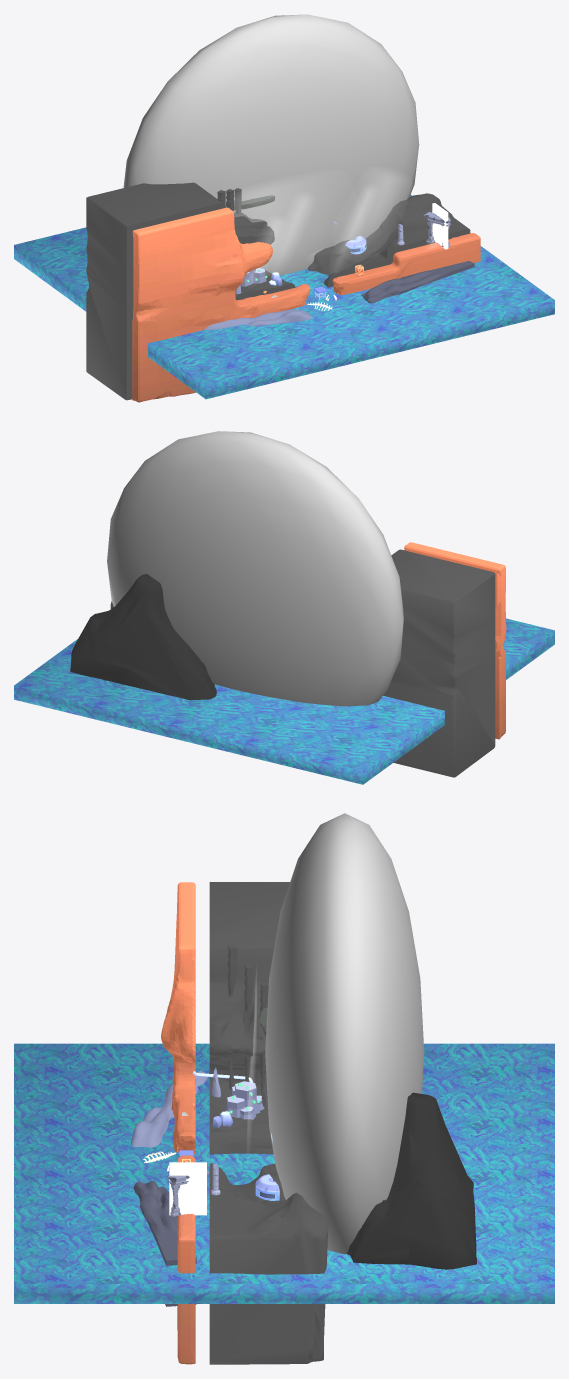
Rendered from level_05.glb.
3 views of the same model, one above another, from view 1: azimuth 30°, elevation 25°; view 2: azimuth 150°, elevation 25°; view 3: azimuth 270°, elevation 25° (orthographic). The views are drawn at different scales.
Parts seen in each view (by area): view 1: glow.004, danger.001, ground.001, Ground.009, light-ray.002, Cube.020, Cube.019, goal_sensor.005; view 2: glow.004, danger.001, Ground.009, Ground.008, ground.001; view 3: danger.001, glow.004, Ground.009, Ground.008, ground.001, Cube.020, goal_sensor.005, Pole.003, Cube.019, rock_crystalsLargeA.
Part boxes in pixels (left/top/right/bottom): glow.004: left=123, top=14, right=419, bottom=275; danger.001: left=14, top=195, right=554, bottom=399; ground.001: left=132, top=207, right=480, bottom=402; Ground.009: left=86, top=182, right=470, bottom=400; light-ray.002: left=234, top=173, right=440, bottom=276; Cube.020: left=361, top=261, right=474, bottom=303; Cube.019: left=204, top=309, right=312, bottom=329; goal_sensor.005: left=432, top=203, right=448, bottom=249; glow.004: left=107, top=431, right=403, bottom=706; danger.001: left=14, top=618, right=554, bottom=784; Ground.009: left=110, top=549, right=495, bottom=777; Ground.008: left=70, top=574, right=216, bottom=700; ground.001: left=404, top=542, right=506, bottom=739; danger.001: left=14, top=1043, right=554, bottom=1303; glow.004: left=265, top=813, right=424, bottom=1254; Ground.009: left=209, top=882, right=328, bottom=1364; Ground.008: left=347, top=1092, right=476, bottom=1269; ground.001: left=161, top=882, right=195, bottom=1364; Cube.020: left=133, top=1181, right=196, bottom=1306; goal_sensor.005: left=169, top=1162, right=206, bottom=1215; Pole.003: left=227, top=944, right=268, bottom=1108; Cube.019: left=131, top=1071, right=207, bottom=1147; rock_crystalsLargeA: left=224, top=1081, right=264, bottom=1119.
Size of the model in its own units: 126 by 104 by 117.
Materials: 6 (6 with a texture image).
